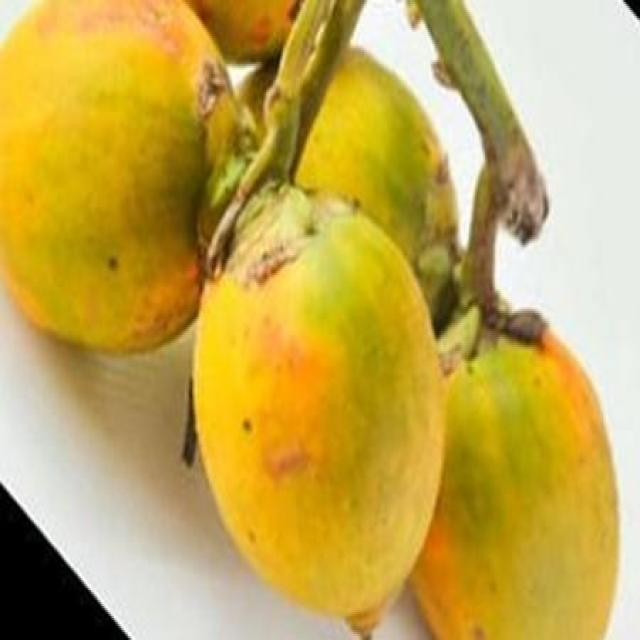good: (193, 161, 447, 638), (0, 0, 228, 357), (407, 331, 622, 638)
